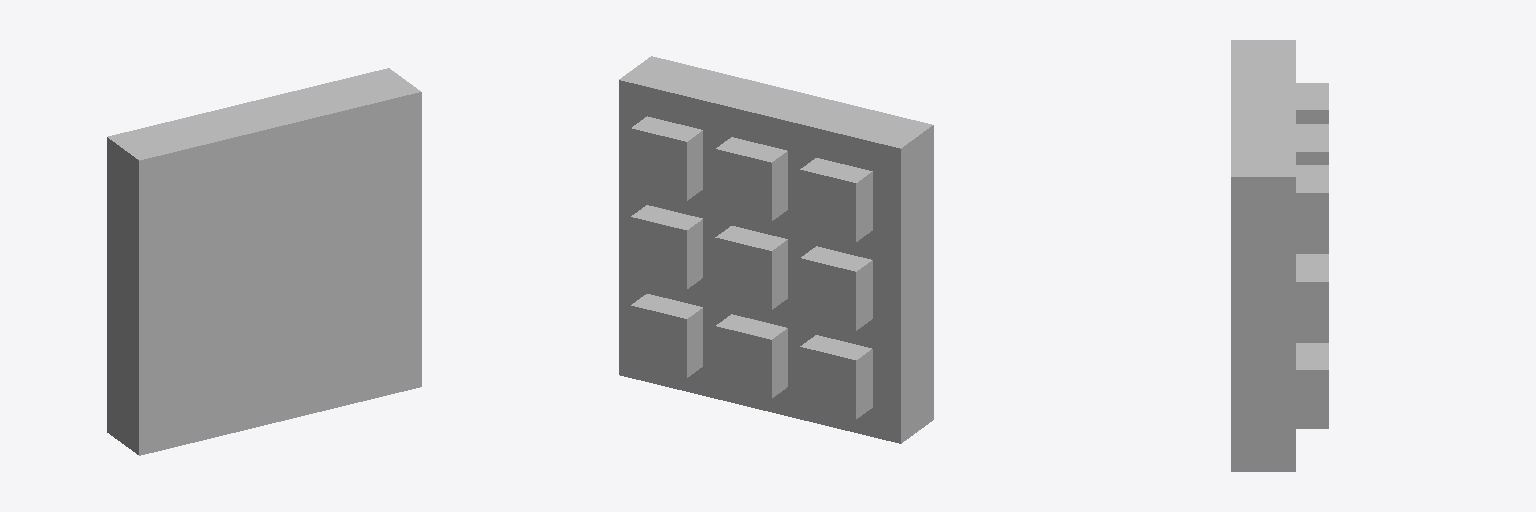
The model's file is crafting_interface_bus.obj.
The picture shows the model from 3 angles: view 1: azimuth 30°, elevation 25°; view 2: azimuth 150°, elevation 25°; view 3: azimuth 270°, elevation 25°; orthographic projection.
Parts seen in each view (by area): view 1: cube; view 2: cube; view 3: cube.
Boxes of the visible parts, x1=… form: cube: x1=107, y1=68, x2=421, y2=455; cube: x1=619, y1=56, x2=933, y2=443; cube: x1=1231, y1=40, x2=1328, y2=471.
Bounding box in the file's own units: 0.625 × 0.625 × 0.1875.